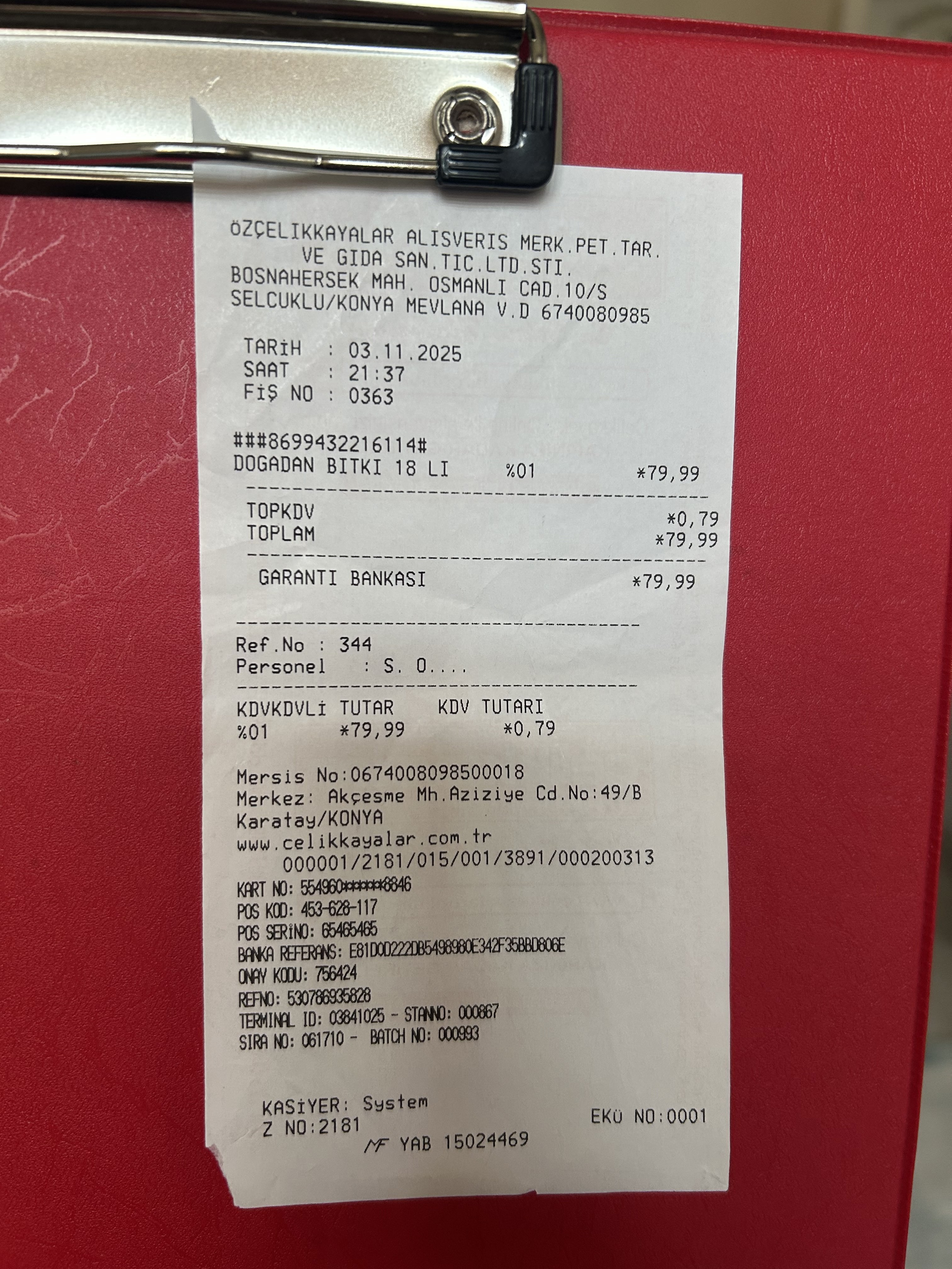date: (344, 335, 469, 364)
price: (641, 569, 699, 596)
workplace: (211, 214, 676, 330)
